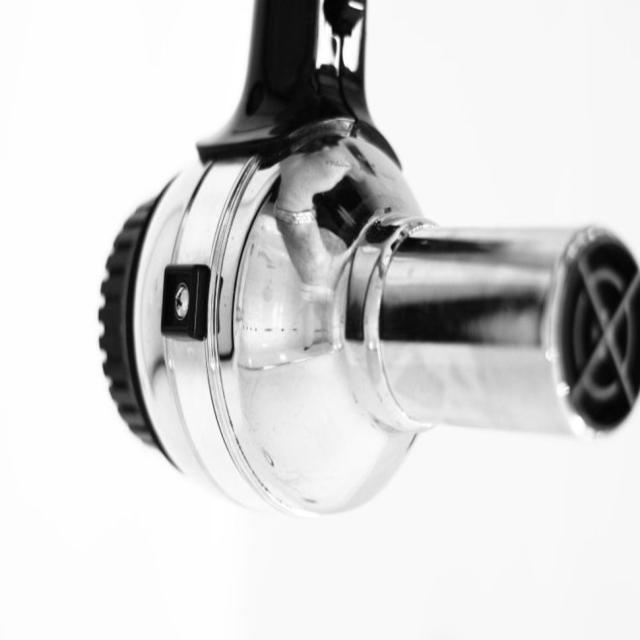dryer: (67, 0, 640, 554)
